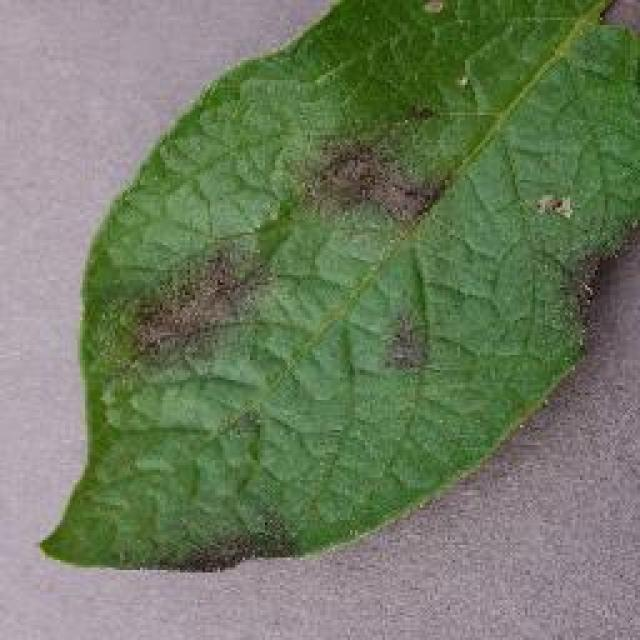Potato___Late_blight: (35, 0, 638, 577)
